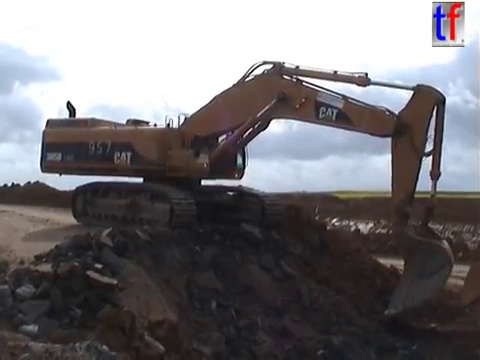excavator: (36, 58, 457, 318)
